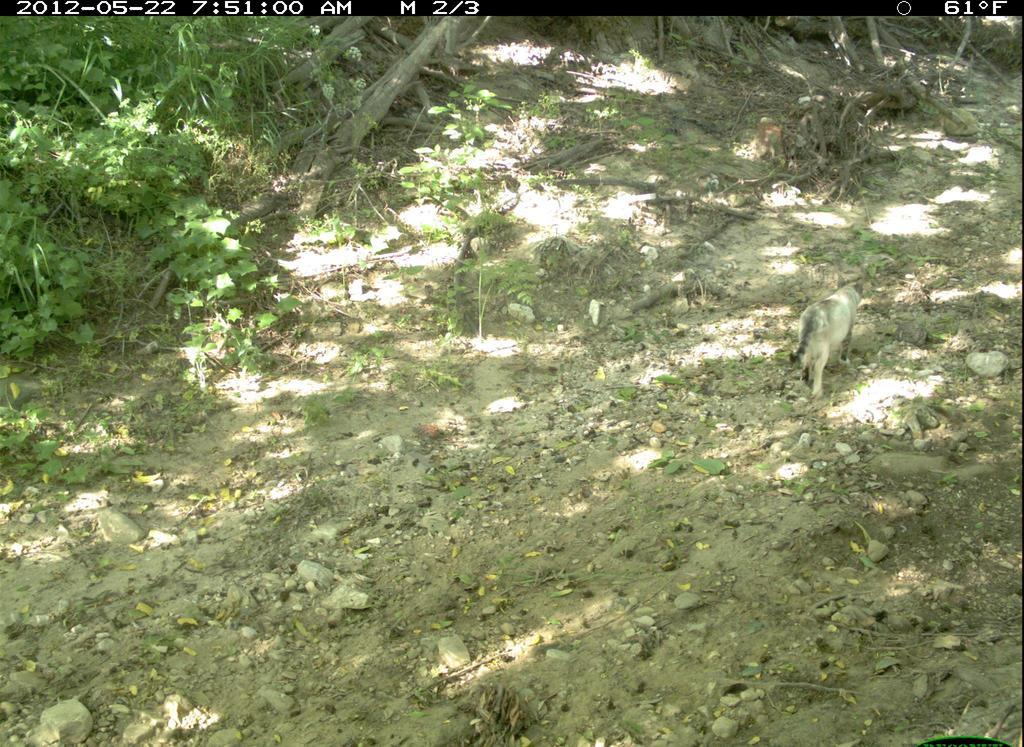cat: (779, 265, 872, 406)
